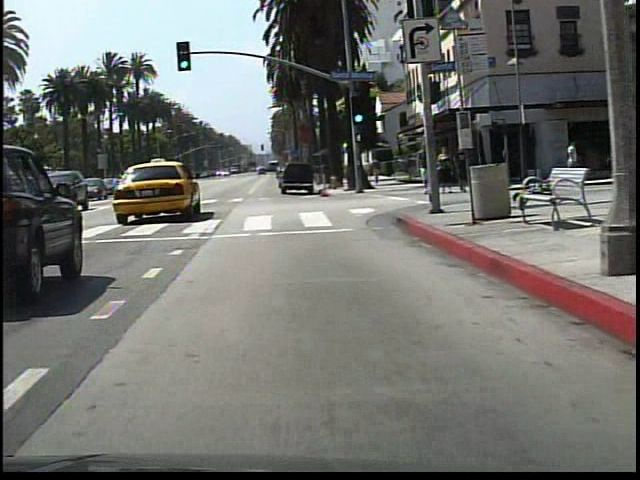person: (414, 143, 433, 198), (563, 138, 579, 184)
